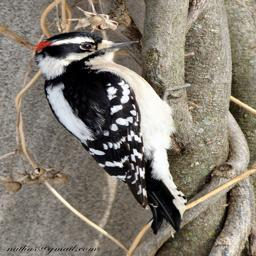Woodpecker: (35, 31, 190, 235)
